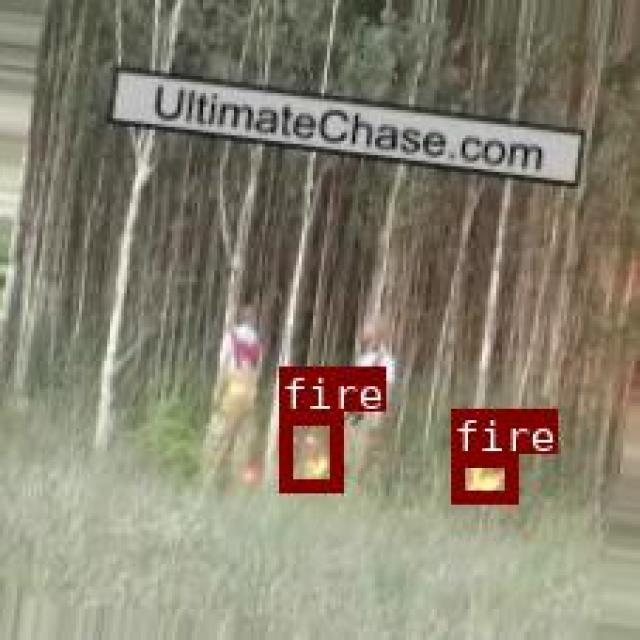fire: (277, 411, 339, 490), (448, 452, 515, 501)
